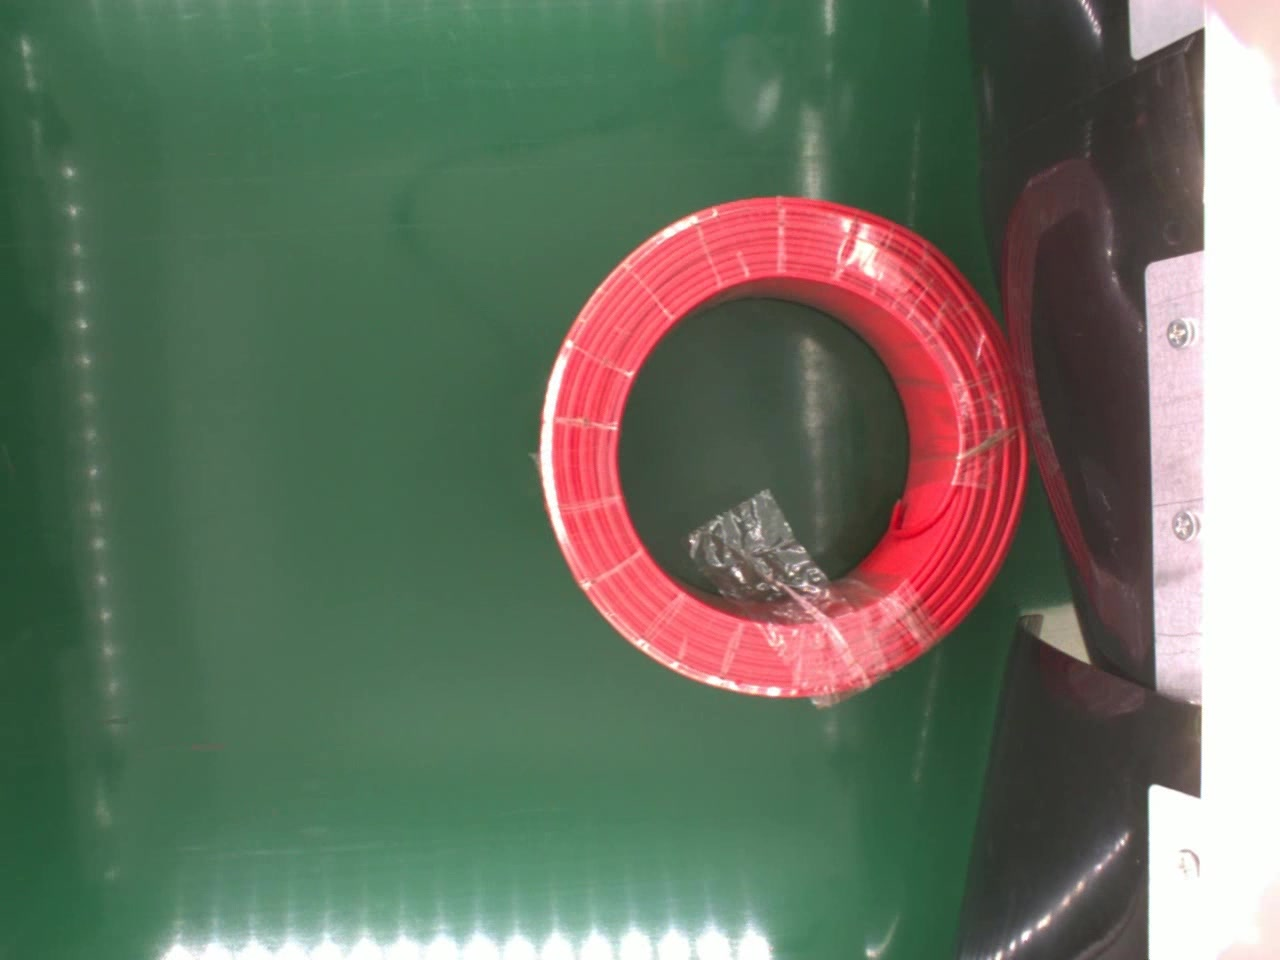red: (540, 188, 1030, 700)
